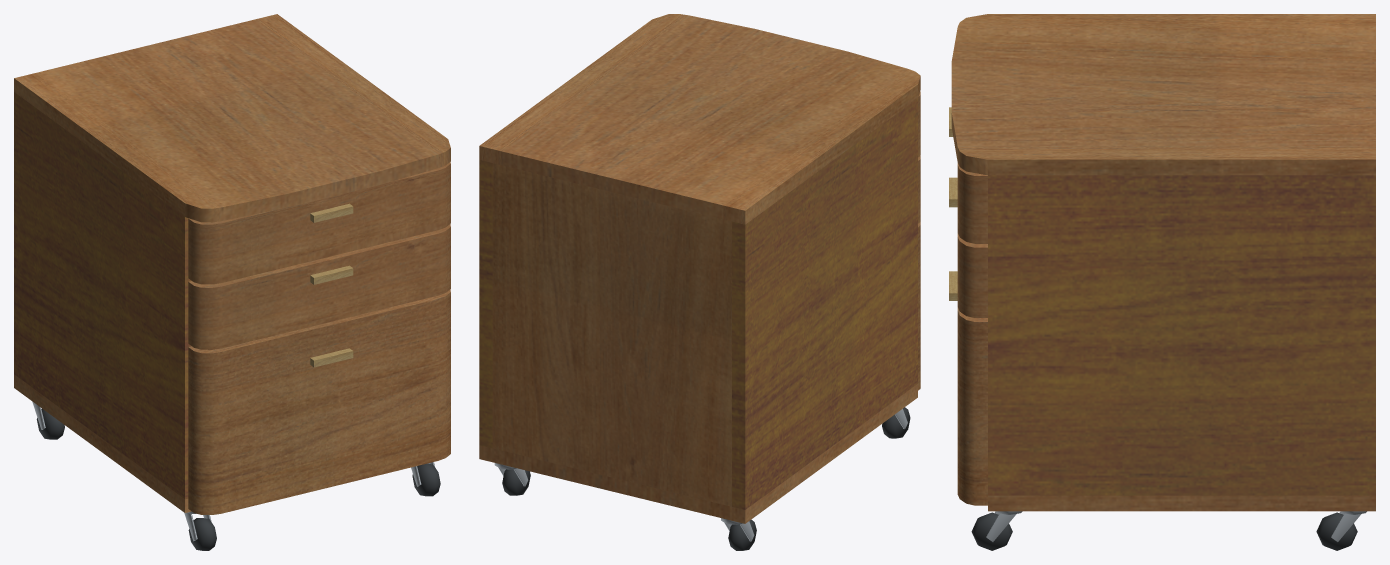
File: Cabinet.fbx
The picture shows the model from 3 angles, left to right: view 1: azimuth 30°, elevation 25°; view 2: azimuth 150°, elevation 25°; view 3: azimuth 270°, elevation 25°; orthographic projection. The views are drawn at different scales.
Parts seen in each view (by area): view 1: Cabinet_Main, Cabinet_Drawer_3, Cabinet_Drawer_2, Cabinet_Drawer_1; view 2: Cabinet_Main; view 3: Cabinet_Main, Cabinet_Drawer_3, Cabinet_Drawer_2, Cabinet_Drawer_1.
Boxes of the visible parts, left/top/right/bottom form: Cabinet_Main: left=14, top=14, right=450, bottom=550; Cabinet_Drawer_3: left=188, top=289, right=450, bottom=514; Cabinet_Drawer_2: left=188, top=224, right=450, bottom=349; Cabinet_Drawer_1: left=188, top=162, right=450, bottom=284; Cabinet_Main: left=479, top=14, right=920, bottom=550; Cabinet_Main: left=951, top=14, right=1375, bottom=550; Cabinet_Drawer_3: left=949, top=271, right=987, bottom=505; Cabinet_Drawer_2: left=949, top=177, right=987, bottom=317; Cabinet_Drawer_1: left=949, top=107, right=987, bottom=243.
Bounding box in the file's own units: 40 × 51.4 × 49.5.
